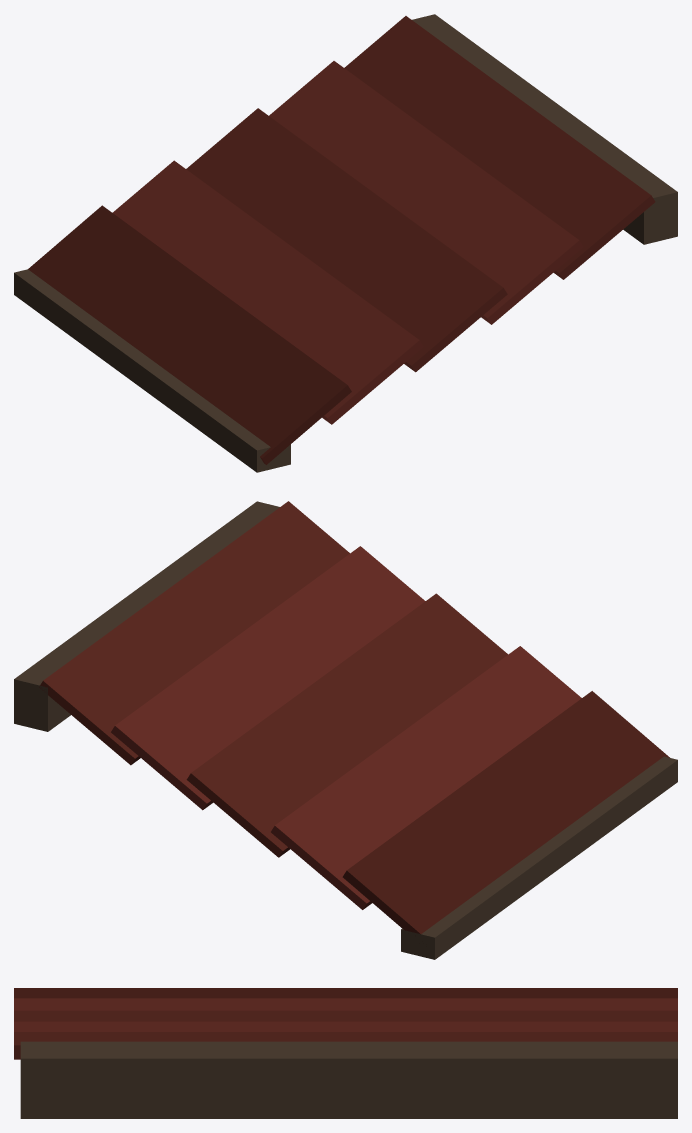
Rendered from A_Roof09.fbx.
3 renders of one model, top to bottom at view 1: azimuth 30°, elevation 25°; view 2: azimuth 150°, elevation 25°; view 3: azimuth 270°, elevation 25°, orthographic. The views are drawn at different scales.
Parts seen in each view (by area): view 1: A_Roof09; view 2: A_Roof09; view 3: A_Roof09.
Boxes of the visible parts, x1,y1,x2,y2 form: A_Roof09: [14, 14, 677, 472]; A_Roof09: [14, 501, 677, 959]; A_Roof09: [14, 988, 677, 1118].
Size of the model in its own units: 99 by 41.27 by 100.
